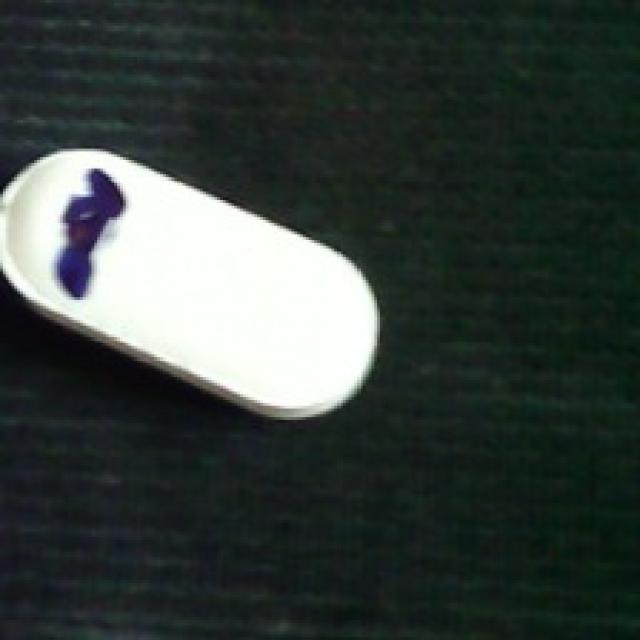defected: (0, 139, 384, 428)
